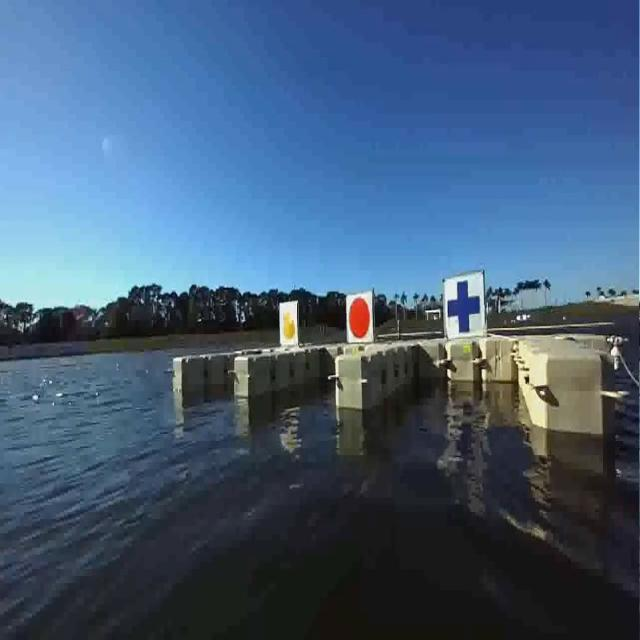blue-cross: (441, 273, 489, 340)
red-dot: (344, 290, 376, 345)
yellow-duck: (275, 293, 299, 347)
